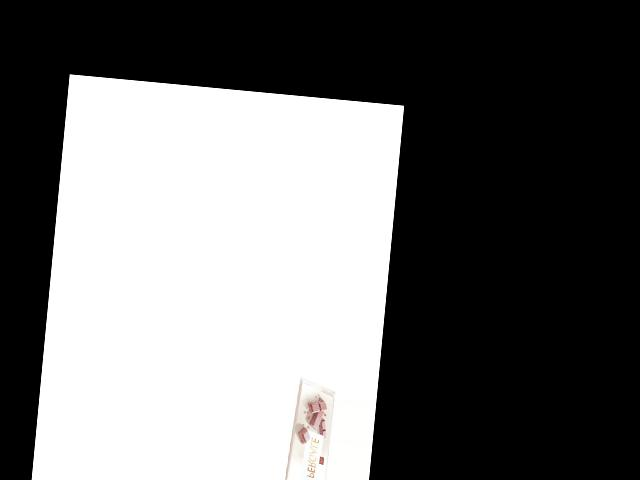chocolate: (284, 374, 336, 480)
